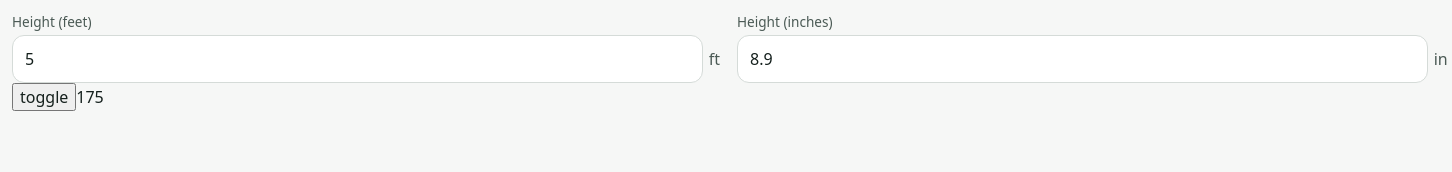
Test: HeightField › out-of-range feet/inches shows a calm message and keeps the old height
Step 1. Replace the text in the field labelled "Height (feet)" with "3" → [357, 59], box [12,35,703,83]
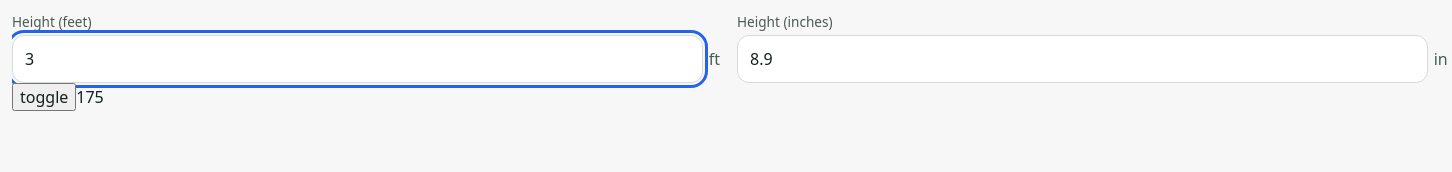
Step 2. Click the text with test id "cm" → [90, 97], box [76,86,104,108]
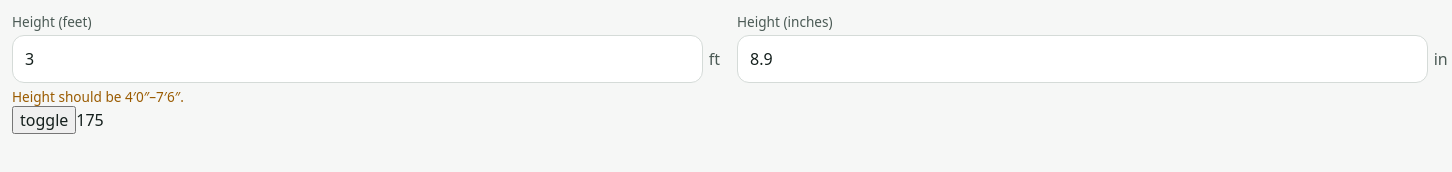
Expected: the text with test id "cm" reads "175", [76,109,104,131]
Result: the text "Height should be 4′0″–7′6″." is shown at [12,87,184,106]
